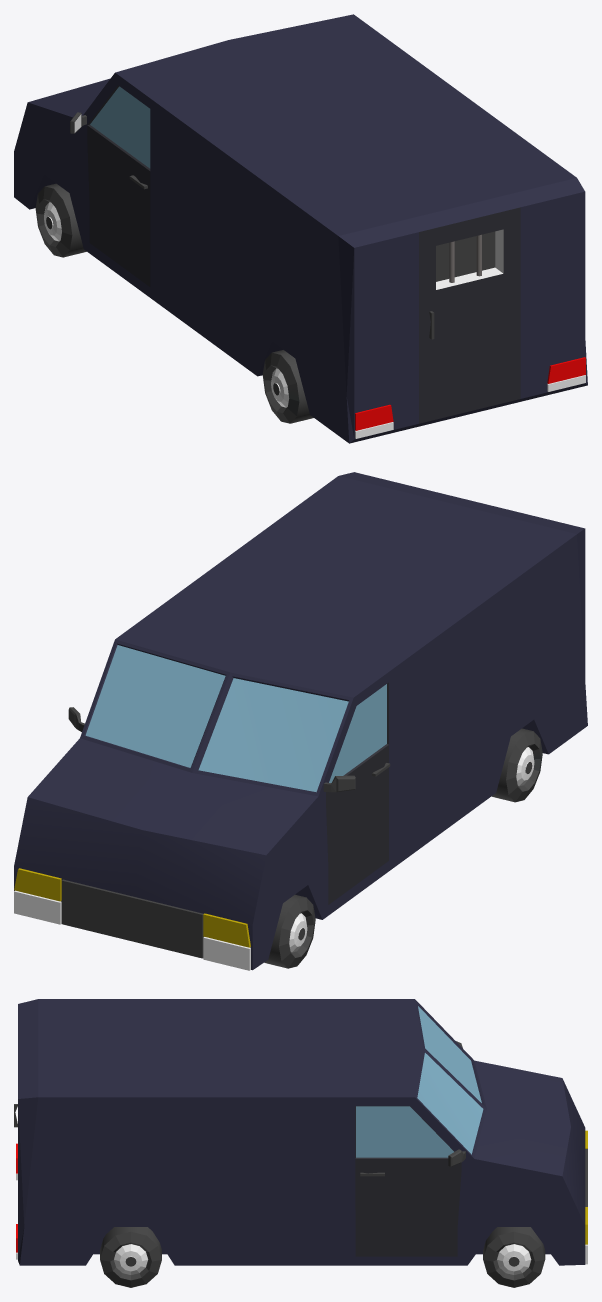
File: SM_Car_01.FBX
3 views of the same model, one above another, from view 1: azimuth 30°, elevation 25°; view 2: azimuth 150°, elevation 25°; view 3: azimuth 270°, elevation 25° (orthographic). The views are drawn at different scales.
Parts seen in each view (by area): view 1: SM_Car_01; view 2: SM_Car_01; view 3: SM_Car_01.
Boxes of the visible parts, <box> form: SM_Car_01: <box>14,14,587,443</box>; SM_Car_01: <box>14,472,587,970</box>; SM_Car_01: <box>14,999,587,1287</box>.
Bounding box in the file's own units: 301 × 619 × 226.
